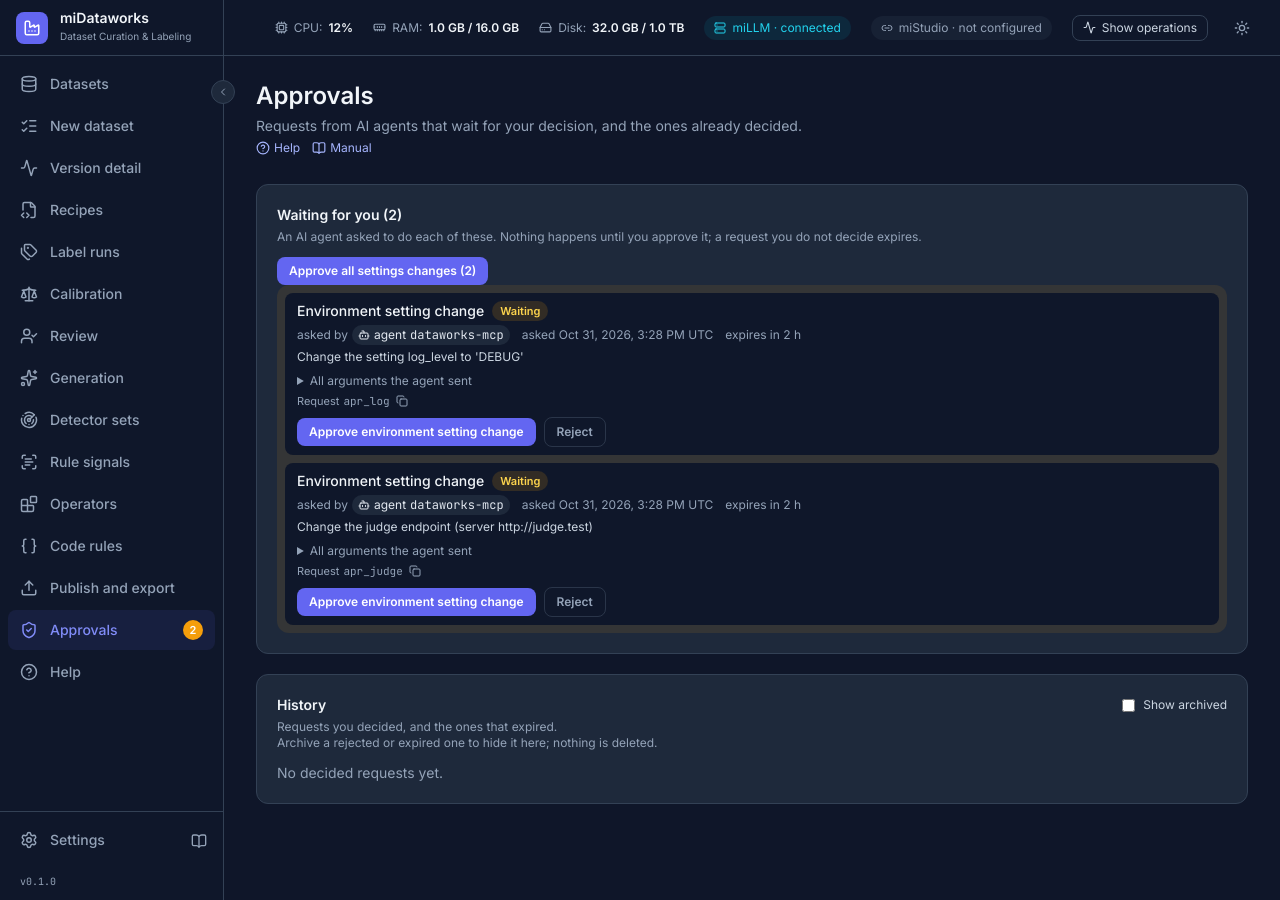
Test case: the confirm › Cancel approves nothing
The width and height of the screenshot is (1280, 900).
Click the button with test id "approve-all-settings-button": (383, 271) [277,257,488,285]
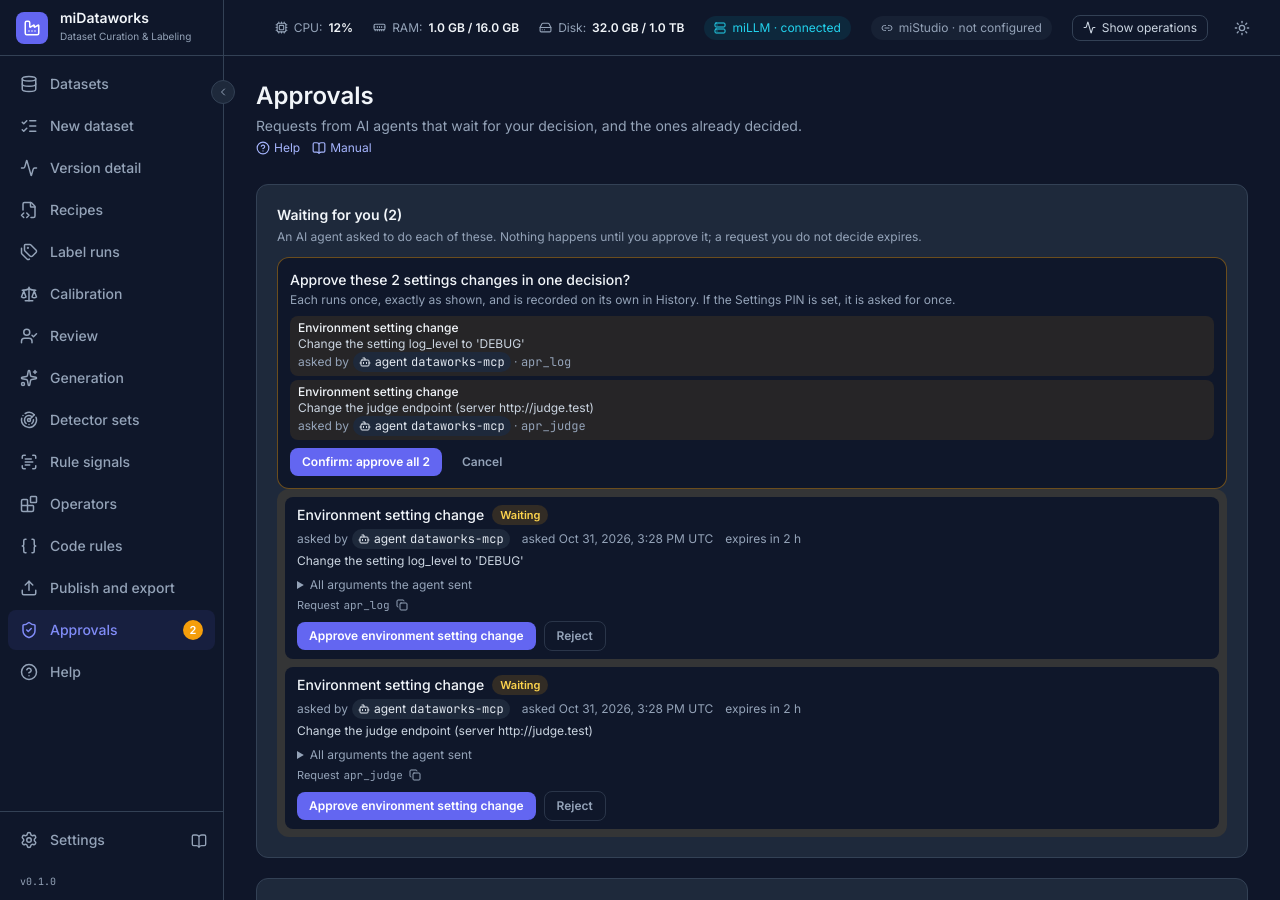
Click the button "Cancel": (482, 462) [450,448,514,476]
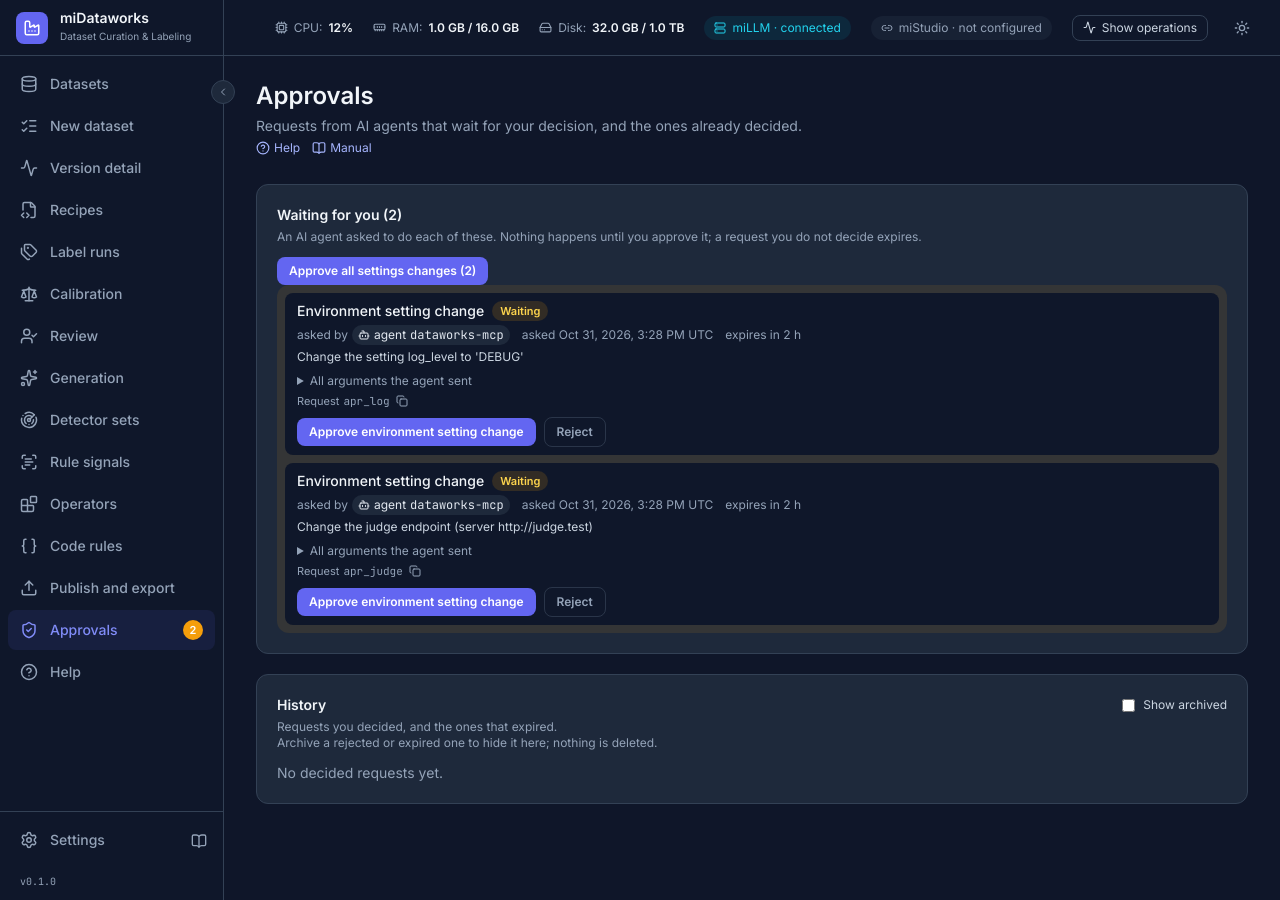
Result: the dialog is gone
